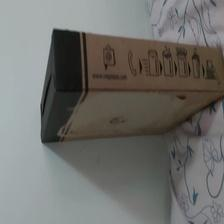box: (39, 28, 224, 144)
